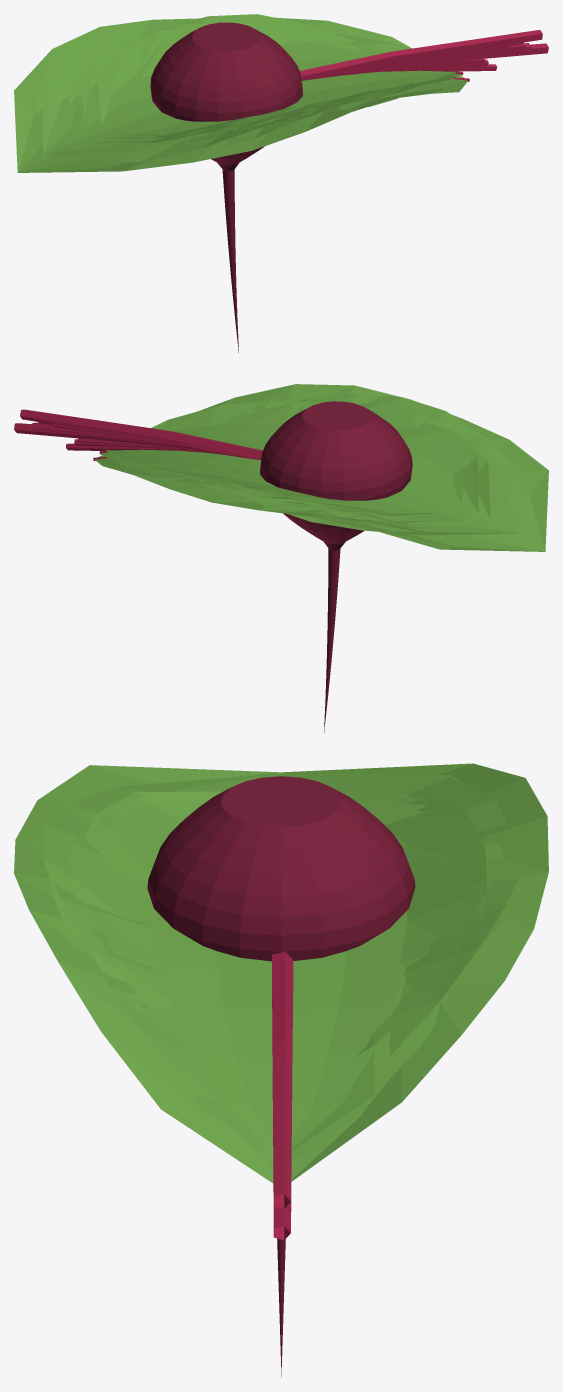
File: beetroot_harvest_v16.articulated.glb
The picture shows the model from 3 angles, top to bottom: view 1: azimuth 30°, elevation 25°; view 2: azimuth 150°, elevation 25°; view 3: azimuth 270°, elevation 25°; orthographic projection. The views are drawn at different scales.
Visible parts, largest first — view 1: root, leaf07_link2, leaf06_link2, leaf02_link2, leaf08_link2, leaf04_link0, leaf09_link2, leaf00_link2, leaf07_link0, leaf05_link2, leaf04_link2, leaf01_link2 (+1 smaller); view 2: root, leaf07_link2, leaf06_link2, leaf02_link2, leaf08_link2, leaf04_link0, leaf04_link2, leaf05_link2, leaf00_link2, leaf09_link2, leaf07_link0, leaf07_link1 (+1 smaller); view 3: root, leaf02_link2, leaf07_link2, leaf08_link2, leaf06_link2, leaf05_link2, leaf00_link2, leaf09_link2, leaf04_link0, leaf01_link2, leaf04_link2, leaf03_link2 (+1 smaller).
Boxes of the visible parts, x1,y1,x2,y2 form: root: (150, 22, 302, 352); leaf07_link2: (14, 17, 469, 172); leaf06_link2: (42, 14, 418, 162); leaf02_link2: (84, 23, 458, 138); leaf08_link2: (104, 29, 463, 138); leaf04_link0: (299, 30, 542, 77); leaf09_link2: (49, 40, 389, 159); leaf00_link2: (97, 38, 391, 137); leaf07_link0: (301, 43, 548, 80); leaf05_link2: (81, 21, 331, 142); leaf04_link2: (73, 24, 413, 143); leaf01_link2: (70, 48, 372, 150); root: (260, 401, 412, 732); leaf07_link2: (93, 384, 548, 551); leaf06_link2: (146, 396, 519, 535); leaf02_link2: (104, 401, 478, 523); leaf08_link2: (99, 424, 475, 515); leaf04_link0: (20, 409, 262, 459); leaf04_link2: (187, 410, 490, 525); leaf05_link2: (180, 403, 449, 523); leaf00_link2: (158, 402, 464, 515); leaf09_link2: (156, 393, 512, 532); leaf07_link0: (14, 423, 248, 458); leaf07_link1: (66, 443, 214, 453); root: (147, 776, 415, 1377); leaf02_link2: (95, 798, 486, 1152); leaf07_link2: (14, 763, 548, 1183); leaf08_link2: (99, 802, 470, 1162); leaf06_link2: (44, 773, 518, 1055); leaf05_link2: (69, 803, 493, 991); leaf00_link2: (89, 811, 486, 1056); leaf09_link2: (53, 777, 507, 1043); leaf04_link0: (272, 951, 293, 1209); leaf01_link2: (88, 797, 482, 967); leaf04_link2: (84, 791, 485, 1066); leaf03_link2: (86, 816, 483, 916).
Bounding box in the file's own units: 0.2563 × 0.1489 × 0.1278.
1 material, 1 textured.
